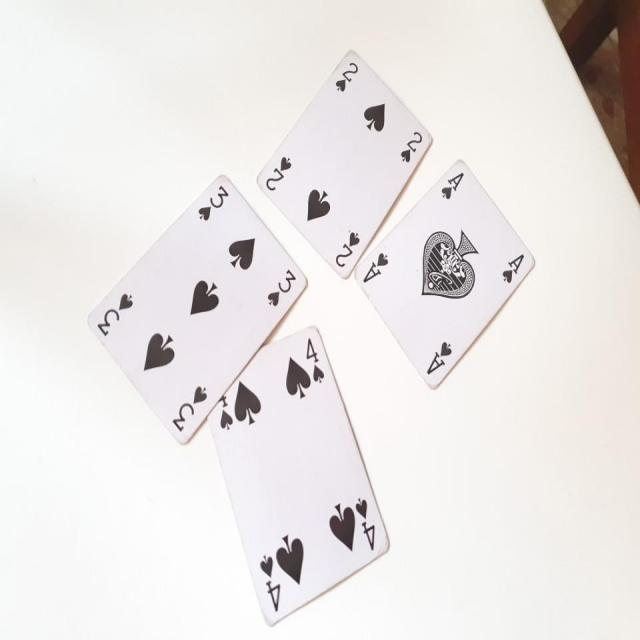2 Spades: (265, 58, 423, 268)
3 Spades: (93, 184, 304, 434)
4 Spades: (214, 330, 380, 626)
A Spades: (361, 159, 529, 381)
